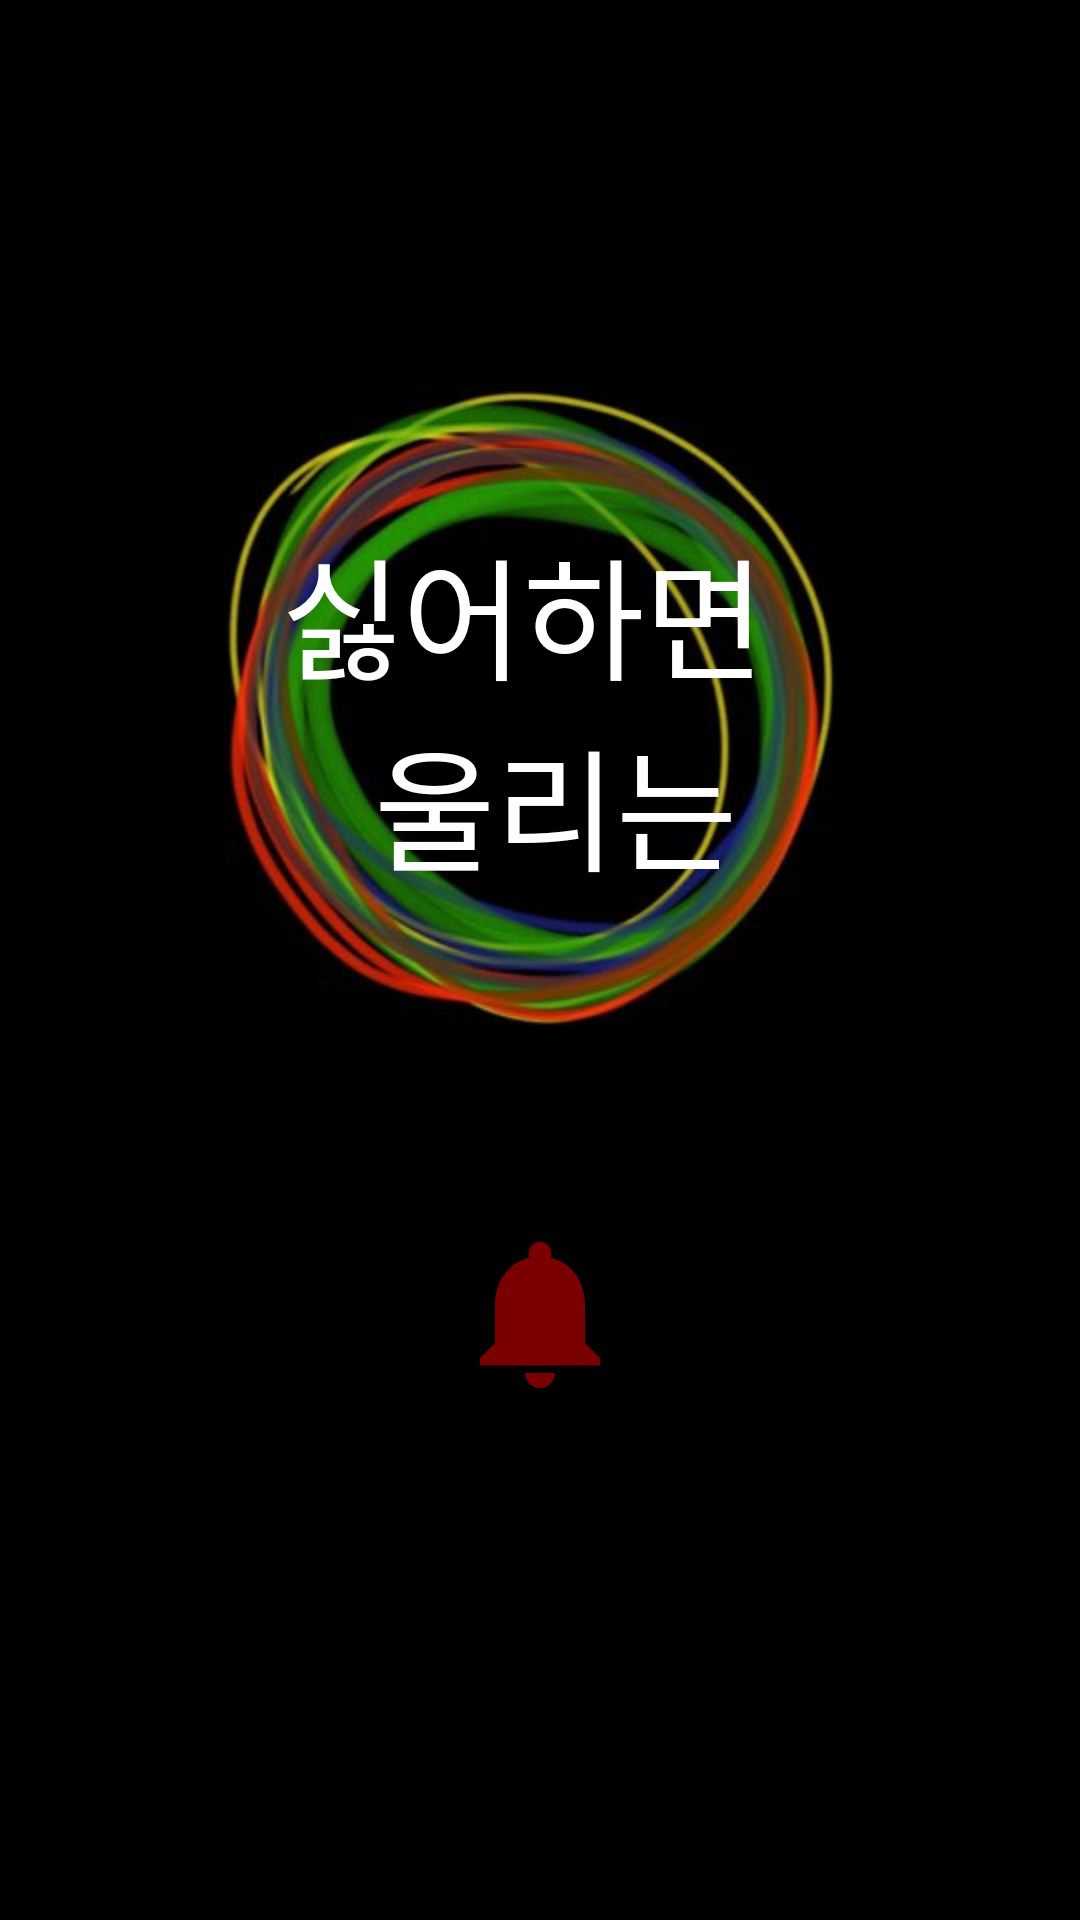

Icon click points for this 1080 × 1920 phone screenshot, format (x,y):
notifications: (540,1315)
